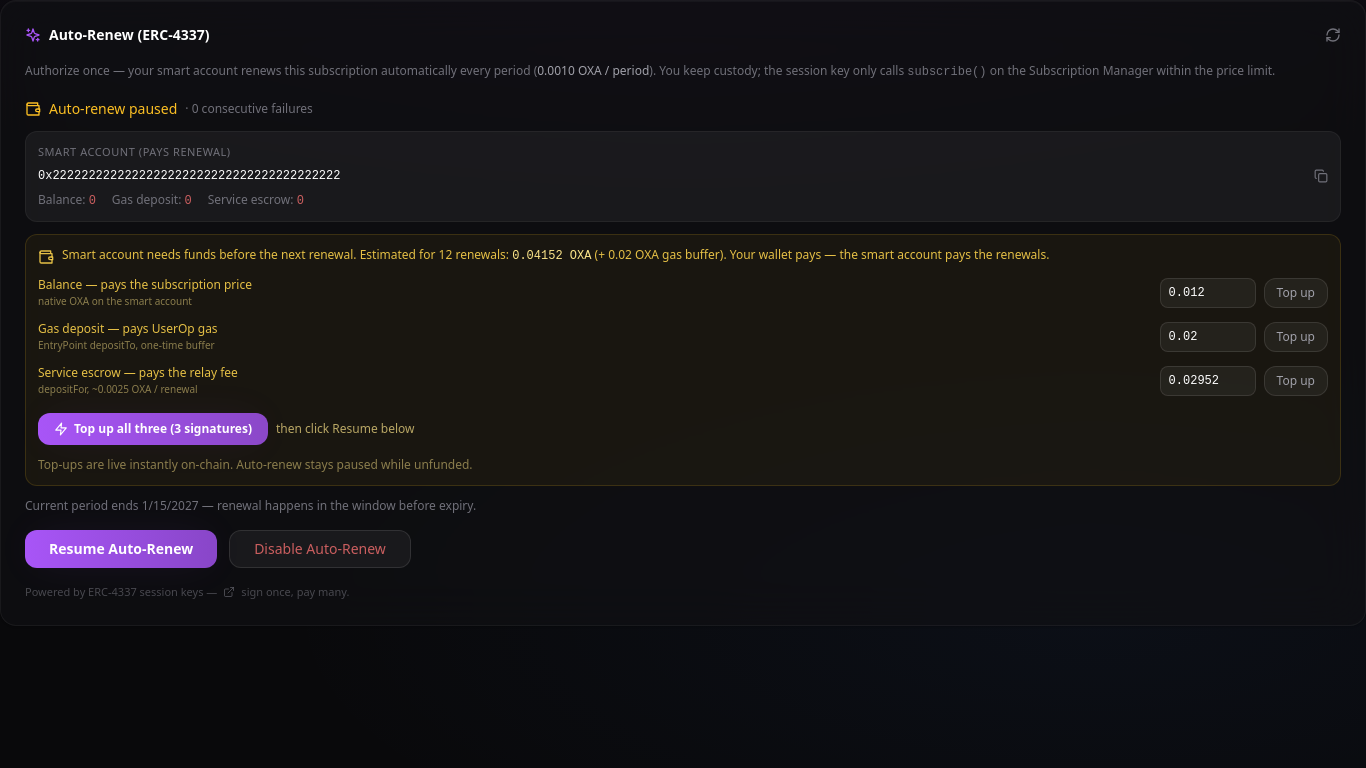
充值 — doTopUp 分支 › Balance 充值成功 → sendTransaction(to=智能账户) → 等待回执 → refresh → 确认文案
Expected: the text "Smart account needs funds" is shown, top-left (62, 246), bottom-right (509, 263)
Click the button "Top up" in the row of "Balance — pays the subscription price".
click(1296, 293)  # box top-left (1264, 278), bottom-right (1328, 308)
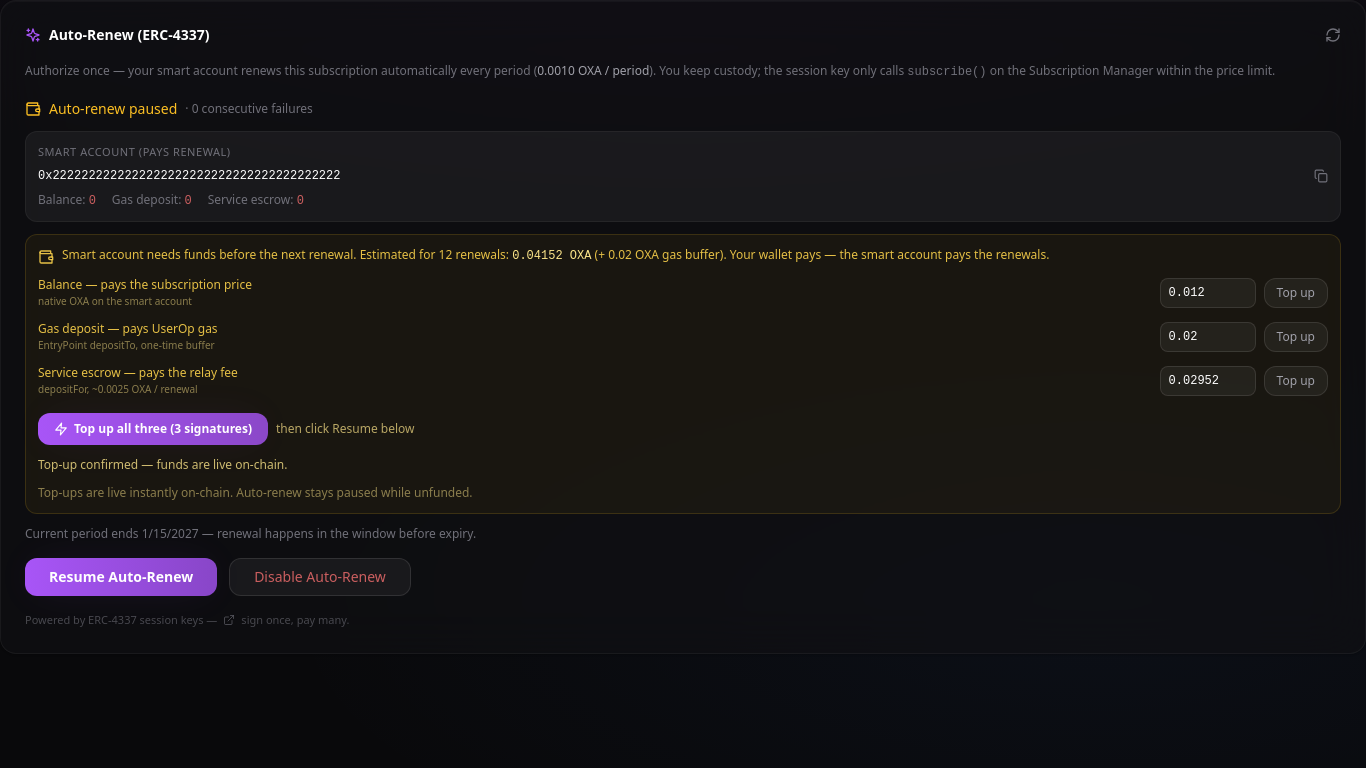
Expected: the text "0x2222222222222222222222222222222222222222" is shown, top-left (38, 169), bottom-right (340, 183)
Now the text "Top-up confirmed — funds are live on-chain." is shown, box top-left (38, 456), bottom-right (287, 473)
